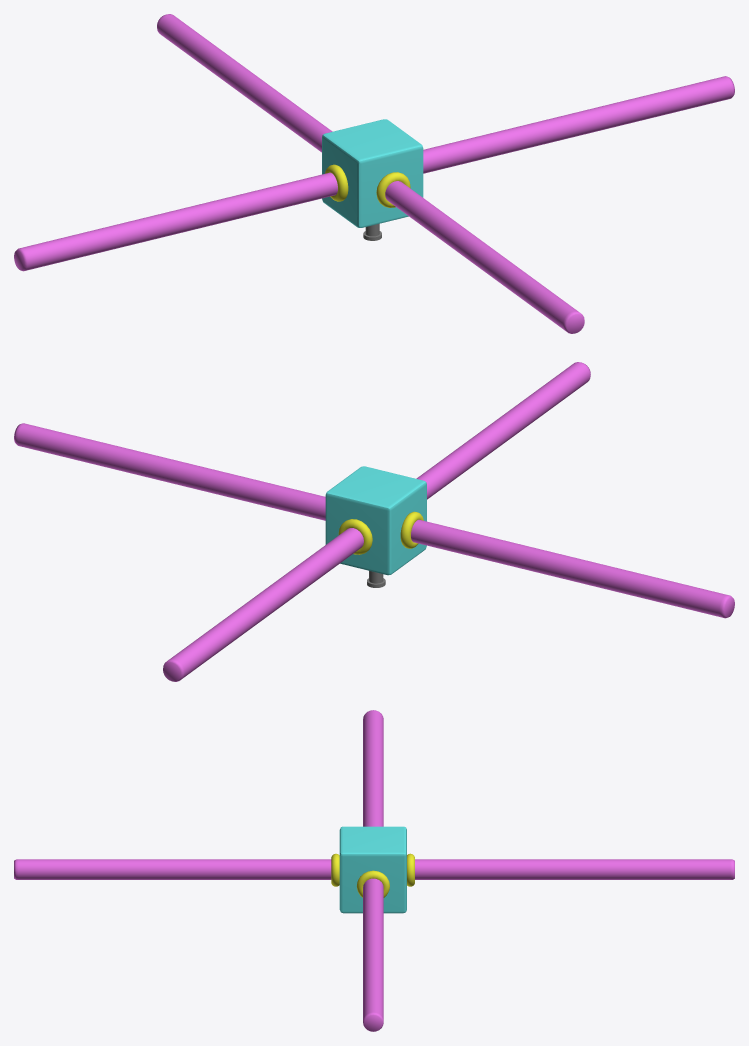
The model's file is Obstacle01.fbx.
3 views of the same model, one above another, from view 1: azimuth 30°, elevation 25°; view 2: azimuth 150°, elevation 25°; view 3: azimuth 270°, elevation 25° (orthographic). The views are drawn at different scales.
Parts seen in each view (by area): view 1: Obstacle01_Post03_msh, Obstacle01_Post01_msh, Box_Obstacle01_msh, Obstacle01_Post04_msh, Obstacle01_Post02_msh, Obstacle01_Torus04_msh; view 2: Obstacle01_Post03_msh, Obstacle01_Post01_msh, Box_Obstacle01_msh, Obstacle01_Post02_msh, Obstacle01_Post04_msh, Obstacle01_Torus02_msh; view 3: Obstacle01_Post02_msh, Obstacle01_Post04_msh, Box_Obstacle01_msh, Obstacle01_Post01_msh, Obstacle01_Post03_msh.
Part boxes in pixels (x1=…): Obstacle01_Post03_msh: x1=14, y1=172, x2=337, y2=271; Obstacle01_Post01_msh: x1=423, y1=76, x2=734, y2=173; Box_Obstacle01_msh: x1=322, y1=119, x2=423, y2=227; Obstacle01_Post04_msh: x1=385, y1=181, x2=584, y2=333; Obstacle01_Post02_msh: x1=157, y1=14, x2=332, y2=152; Obstacle01_Torus04_msh: x1=376, y1=172, x2=410, y2=207; Obstacle01_Post03_msh: x1=411, y1=519, x2=734, y2=618; Obstacle01_Post01_msh: x1=14, y1=423, x2=325, y2=520; Box_Obstacle01_msh: x1=325, y1=466, x2=426, y2=575; Obstacle01_Post02_msh: x1=163, y1=528, x2=363, y2=681; Obstacle01_Post04_msh: x1=416, y1=362, x2=590, y2=499; Obstacle01_Torus02_msh: x1=338, y1=519, x2=372, y2=554; Obstacle01_Post02_msh: x1=415, y1=859, x2=734, y2=879; Obstacle01_Post04_msh: x1=14, y1=859, x2=331, y2=879; Box_Obstacle01_msh: x1=339, y1=826, x2=406, y2=913; Obstacle01_Post01_msh: x1=363, y1=878, x2=383, y2=1031; Obstacle01_Post03_msh: x1=363, y1=710, x2=383, y2=826.
Size of the model in its own units: 14.16 by 1.87 by 14.15.
